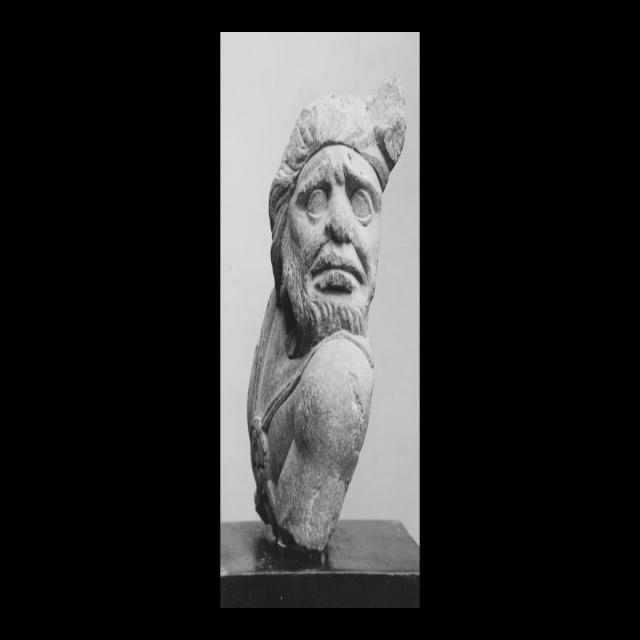buddha-sitting: (248, 78, 405, 551)
